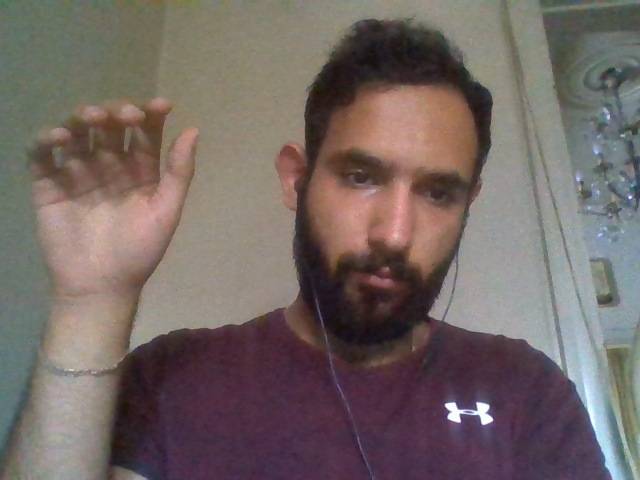Snake: (8, 71, 250, 480)
